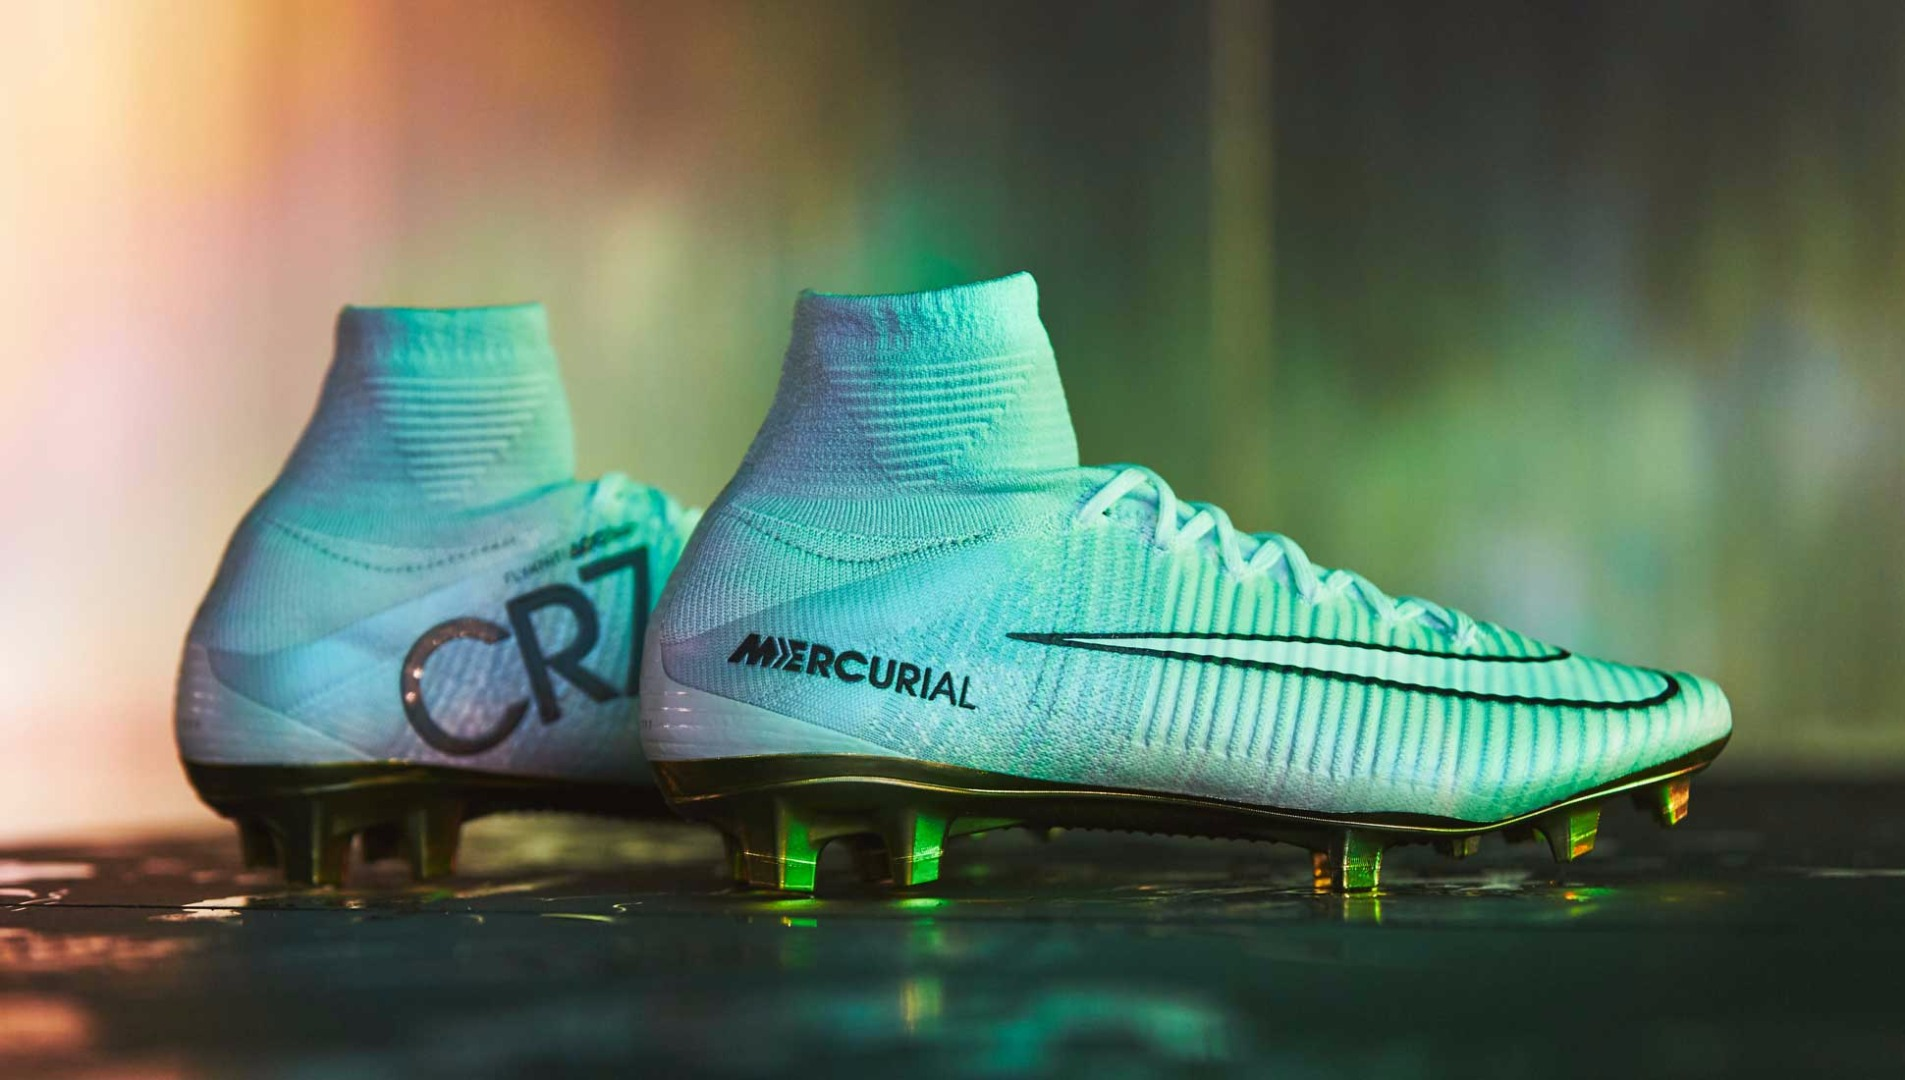football boots: (645, 289, 1731, 899), (174, 304, 644, 886)
